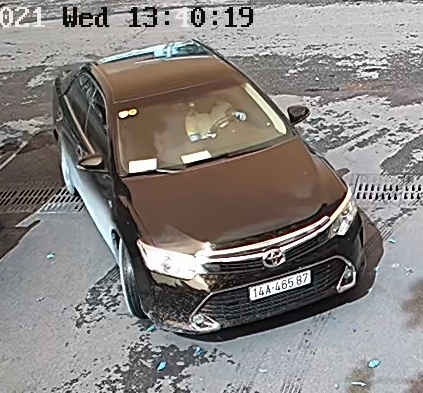vehicle plate: (236, 270, 317, 300)
